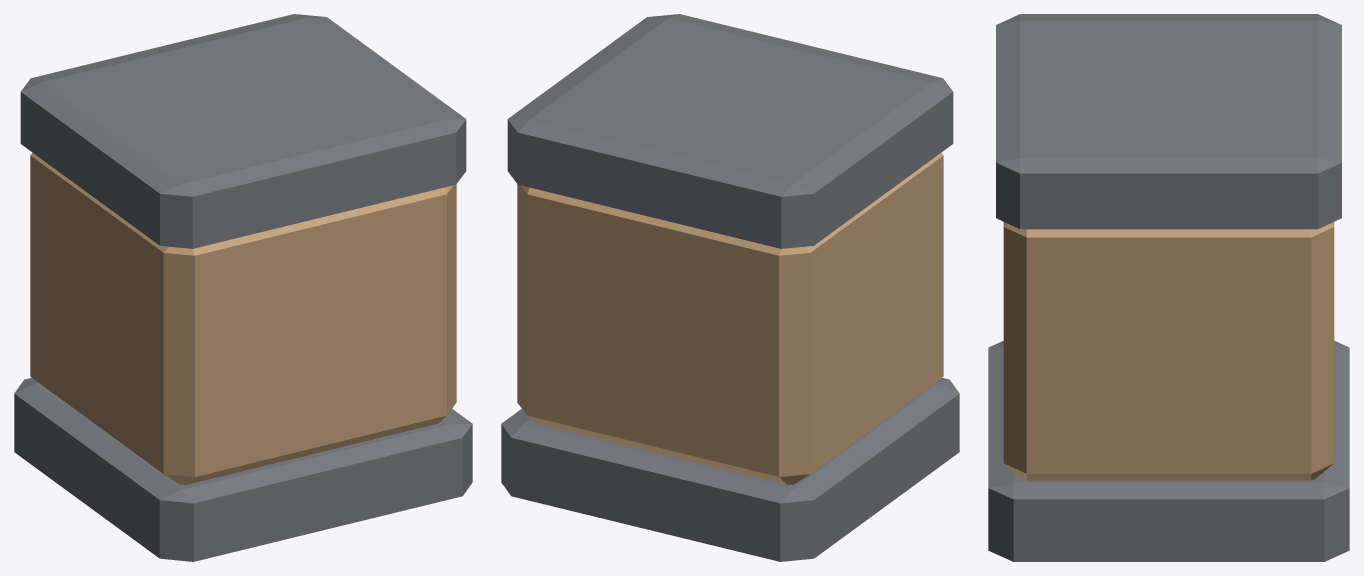
File: b14_braced_wood_shipping_crate.glb
3 renders of one model, left to right at view 1: azimuth 30°, elevation 25°; view 2: azimuth 150°, elevation 25°; view 3: azimuth 270°, elevation 25°, orthographic. The views are drawn at different scales.
Visible parts, largest first — view 1: b14_braced_wood_shipping_crate; view 2: b14_braced_wood_shipping_crate; view 3: b14_braced_wood_shipping_crate.
Boxes of the visible parts, x1=… form: b14_braced_wood_shipping_crate: x1=14, y1=14, x2=472, y2=561; b14_braced_wood_shipping_crate: x1=501, y1=14, x2=959, y2=561; b14_braced_wood_shipping_crate: x1=988, y1=14, x2=1349, y2=561.
Size of the model in its own units: 0.976 by 1.11 by 0.914.
